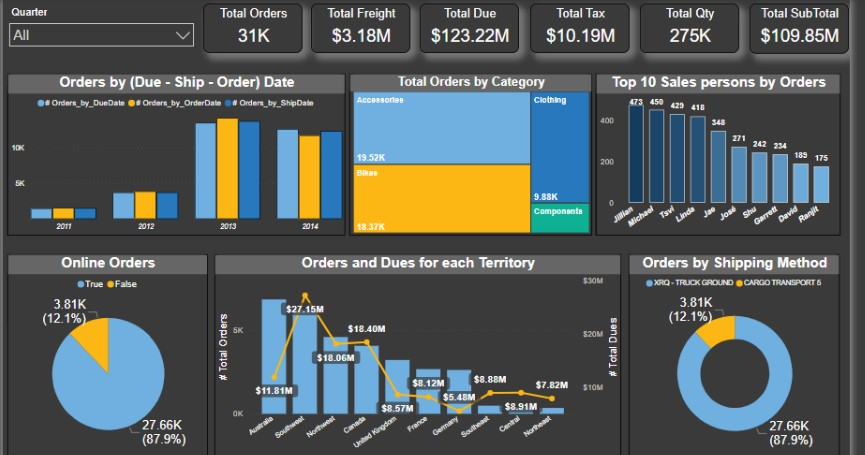

This screenshot's page, from the dashboard's own definition file:
{"tool":"powerbi","page":{"name":"Sales","canvas":[1280,720],"ordinal":0},"visuals":[{"type":"clusteredColumnChart","title":"Orders by (Due - Ship - Order) Date","fields":{"Y":["Measures_Table.# Orders_by_DueDate","Measures_Table.# Orders_by_OrderDate","Measures_Table.# Orders_by_ShipDate"],"Category":["Dim Date.Year","Dim Date.Month Name"]},"box":[6.7,114.2,510.7,245.2],"z":0},{"type":"donutChart","title":"Orders by Shipping Method","fields":{"Y":["Measures_Table.# Total Orders"],"Category":["Ship Method.Name"]},"box":[947.4,388,319.2,307.4],"z":1000},{"type":"treemap","title":"Total Orders by Category","fields":{"Values":["Measures_Table.# Total Orders"],"Group":["Product.Category Hierarchy.Category","Product.Category Hierarchy.Subcategory","Product.Category Hierarchy.Name"]},"box":[524.4,114.8,367.1,245.2],"z":2000},{"type":"pieChart","title":"Online Orders","fields":{"Y":["Measures_Table.# Total Orders"],"Category":["Fact_Orders.Online Flag"]},"box":[7.1,388.3,303.3,307.6],"z":3000},{"type":"lineStackedColumnComboChart","title":"Orders and Dues for each Territory","fields":{"Category":["Territory.Name"],"Y":["Measures_Table.# Total Orders"],"Y2":["Measures_Table.# Total Dues"]},"box":[320.8,388,614.8,307.4],"z":4000},{"type":"columnChart","title":"Top 10 Sales persons by Orders","fields":{"Category":["Sales Person.First Name","Fact_Orders.Sales Person ID"],"Y":["Measures_Table.# Total Orders"]},"box":[897,114.2,369.6,245.2],"z":5000},{"type":"card","title":"Total Orders","fields":{"Values":["Measures_Table.# Total Orders"]},"box":[303.3,8.5,150.2,75.1],"z":6000},{"type":"card","title":"Total Qty","fields":{"Values":["Measures_Table.# Total Qty"]},"box":[963.8,8.5,150.2,75.1],"z":7000},{"type":"card","title":"Total Freight","fields":{"Values":["Measures_Table.# Total Freight"]},"box":[466.3,8.5,150.2,75.1],"z":8000},{"type":"card","title":"Total SubTotal","fields":{"Values":["Measures_Table.# Total SubTotal"]},"box":[1130,8.6,150,75.7],"z":9000},{"type":"card","title":"Total Due","fields":{"Values":["Measures_Table.# Total Dues"]},"box":[630.7,8.5,150.2,75.1],"z":10000},{"type":"card","title":"Total Tax","fields":{"Values":["Measures_Table.# Total Tax"]},"box":[798,8.5,150.2,75.1],"z":11000},{"type":"slicer","fields":{"Values":["Dim Date.Quarter"]},"box":[0,8.5,299.1,83.6],"z":12000}]}

Visuals, with their boxes on the page's 1280x720 design canvas (x1, y1, x2, y2). These are canvas units, not pixel positions in the 865x455 screenshot, which may show the page scaled, cropped or inside an application window:
"Orders by (Due - Ship - Order) Date" clusteredColumnChart: (7, 114, 517, 359)
"Orders by Shipping Method" donutChart: (947, 388, 1267, 695)
"Total Orders by Category" treemap: (524, 115, 892, 360)
"Online Orders" pieChart: (7, 388, 310, 696)
"Orders and Dues for each Territory" lineStackedColumnComboChart: (321, 388, 936, 695)
"Top 10 Sales persons by Orders" columnChart: (897, 114, 1267, 359)
"Total Orders" card: (303, 8, 454, 84)
"Total Qty" card: (964, 8, 1114, 84)
"Total Freight" card: (466, 8, 616, 84)
"Total SubTotal" card: (1130, 9, 1280, 84)
"Total Due" card: (631, 8, 781, 84)
"Total Tax" card: (798, 8, 948, 84)
slicer - Dim Date.Quarter: (0, 8, 299, 92)
